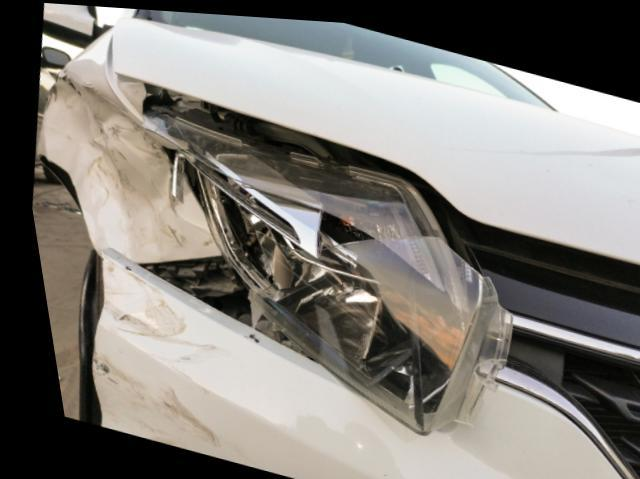dent: (35, 61, 198, 259)
lamp broken: (141, 85, 496, 428)
scratch: (78, 252, 208, 455)
